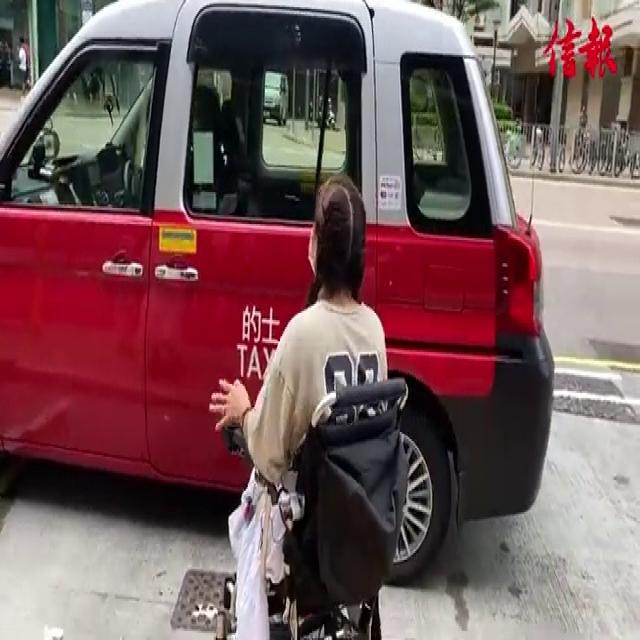wheelchairs: (208, 334, 420, 639)
